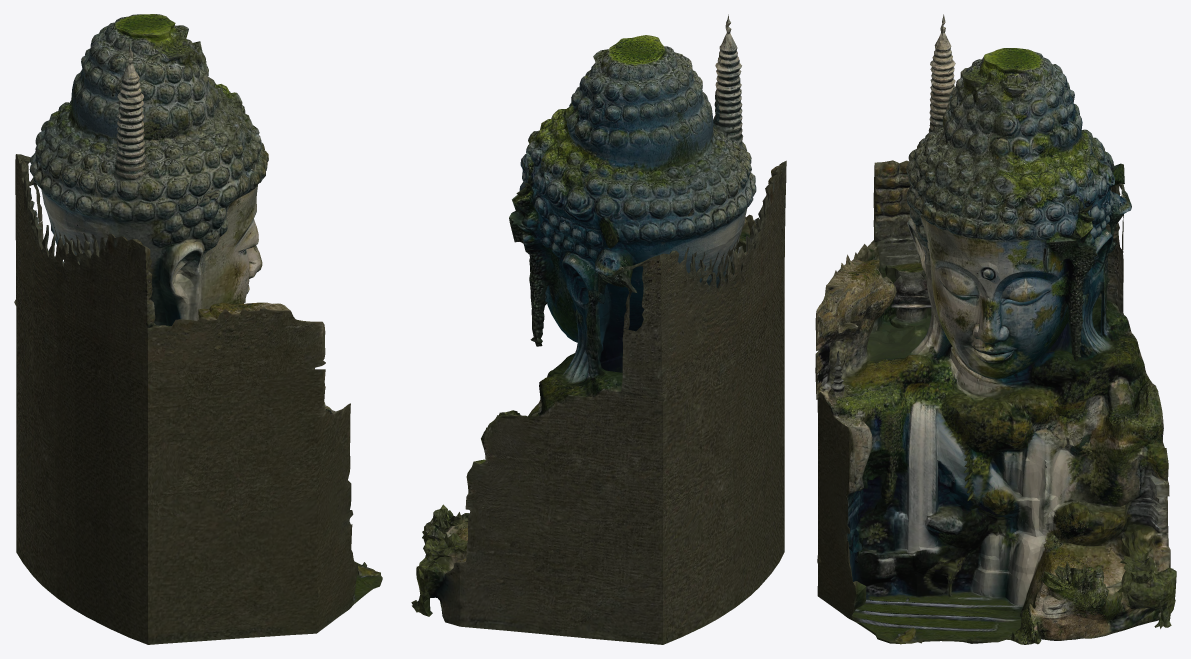
File: tripo_convert_32b1237a-6ddb-473c-982c-49e50c9f19c3.fbx
3 renders of one model, left to right at view 1: azimuth 30°, elevation 25°; view 2: azimuth 150°, elevation 25°; view 3: azimuth 270°, elevation 25°, orthographic. The views are drawn at different scales.
Parts seen in each view (by area): view 1: tripo_node_32b1237a; view 2: tripo_node_32b1237a; view 3: tripo_node_32b1237a.
Boxes of the visible parts, <box> form: tripo_node_32b1237a: <box>14,14,382,644</box>; tripo_node_32b1237a: <box>411,14,786,644</box>; tripo_node_32b1237a: <box>815,14,1176,644</box>.
Size of the model in its own units: 0.5164 by 0.9963 by 0.6176.
1 material, 1 textured.
